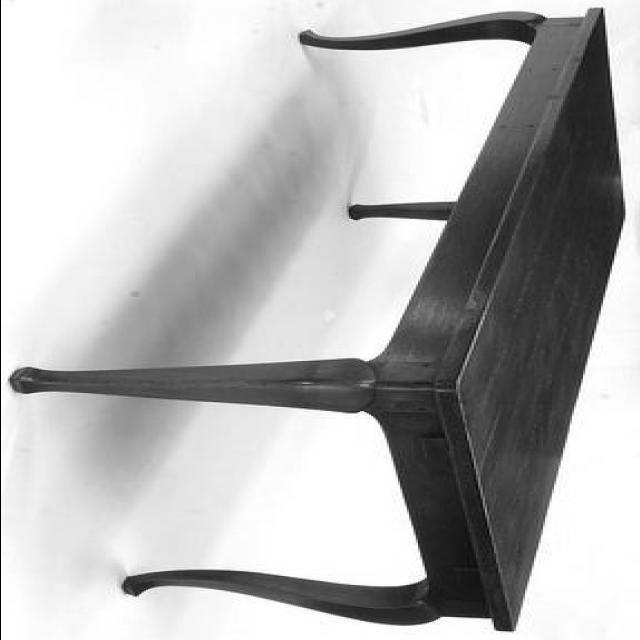table: (12, 6, 626, 632)
